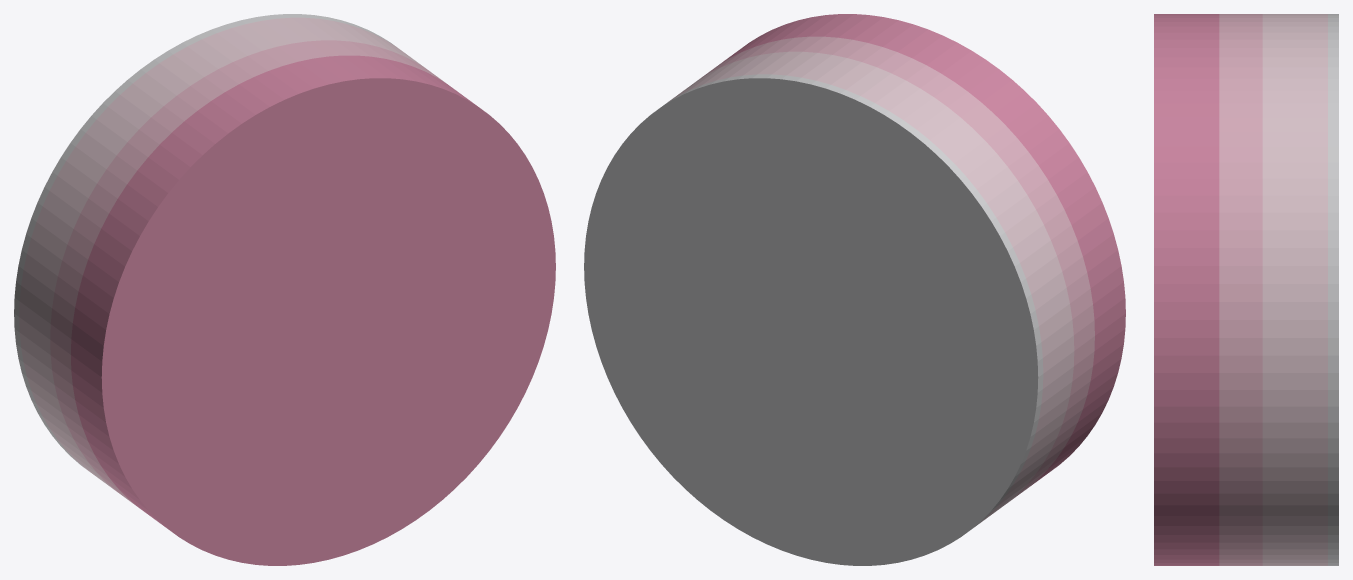
File: cake_10in_layers2.glb
3 views of the same model, side by side, from view 1: azimuth 30°, elevation 25°; view 2: azimuth 150°, elevation 25°; view 3: azimuth 270°, elevation 25° (orthographic). The views are drawn at different scales.
Parts seen in each view (by area): view 1: geometry_2, geometry_0, geometry_1, geometry_3; view 2: geometry_3, geometry_0, geometry_2, geometry_1; view 3: geometry_0, geometry_2, geometry_1, geometry_3.
Boxes of the visible parts, bbox=[...] form: geometry_2: bbox=[71, 55, 555, 565]; geometry_0: bbox=[19, 17, 424, 489]; geometry_1: bbox=[50, 40, 445, 505]; geometry_3: bbox=[14, 14, 394, 467]; geometry_3: bbox=[584, 74, 1043, 565]; geometry_0: bbox=[668, 51, 1074, 524]; geometry_2: bbox=[719, 14, 1125, 486]; geometry_1: bbox=[700, 36, 1094, 501]; geometry_0: bbox=[1262, 14, 1327, 565]; geometry_2: bbox=[1154, 14, 1219, 565]; geometry_1: bbox=[1219, 14, 1262, 565]; geometry_3: bbox=[1328, 14, 1338, 565].
Size of the model in its own units: 0.254 by 0.254 by 0.085.
